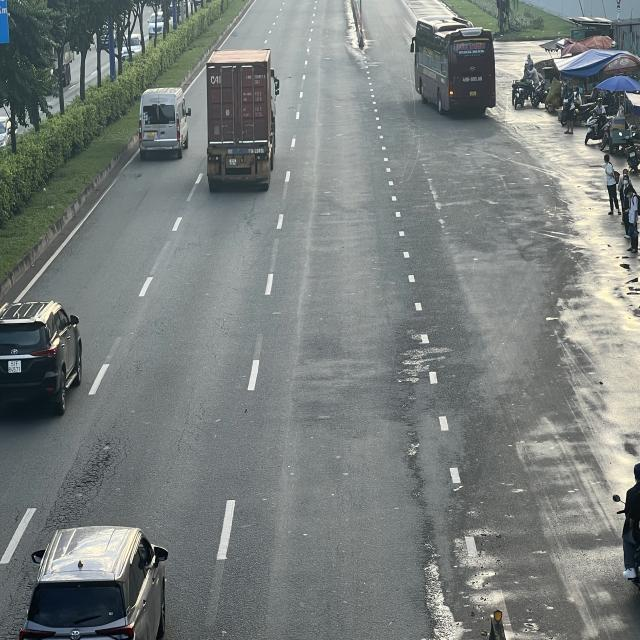car: (18, 523, 168, 637), (1, 300, 84, 414)
coach: (408, 18, 494, 116)
container: (202, 52, 279, 195)
van: (141, 88, 195, 161)
